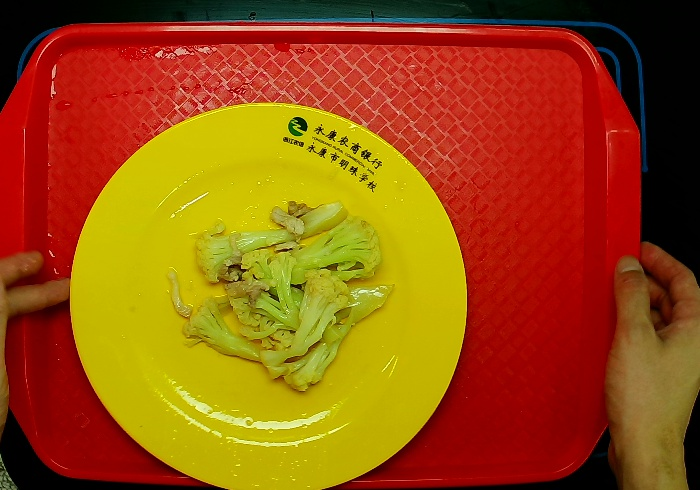YKMZ-Huang_Se_Mian_Pan: (64, 92, 479, 490)
